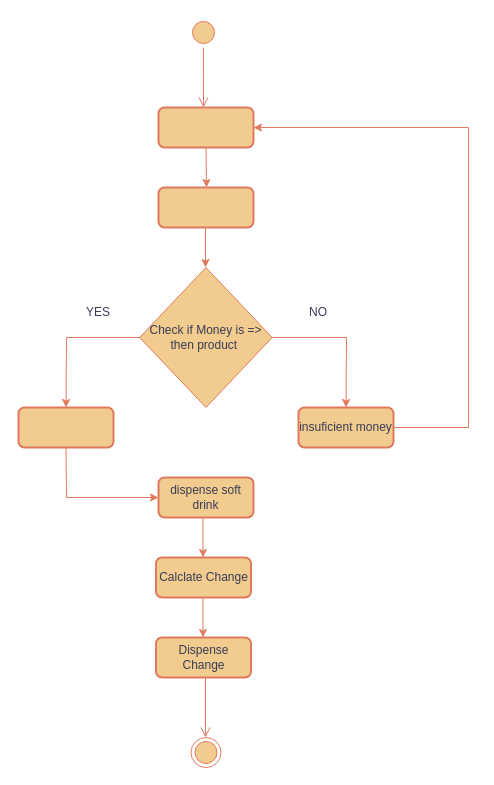
Some shapes in this 494 by 785 pixel diagram are drawn without their labels. The box of each missing label's shape, as (x1, y1, x2, y2) in pixels:
Enable Select Button: (17, 406, 114, 448)
Insert Coin: (157, 106, 254, 148)
Select Product: (157, 186, 254, 228)
